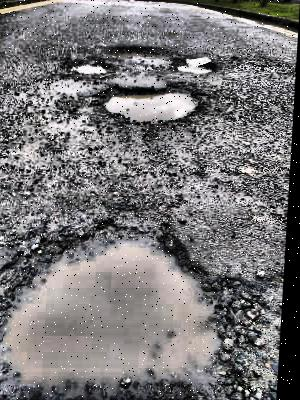pothole: (0, 213, 268, 399), (96, 84, 204, 122), (104, 44, 173, 60), (176, 52, 216, 74), (68, 59, 110, 76)
